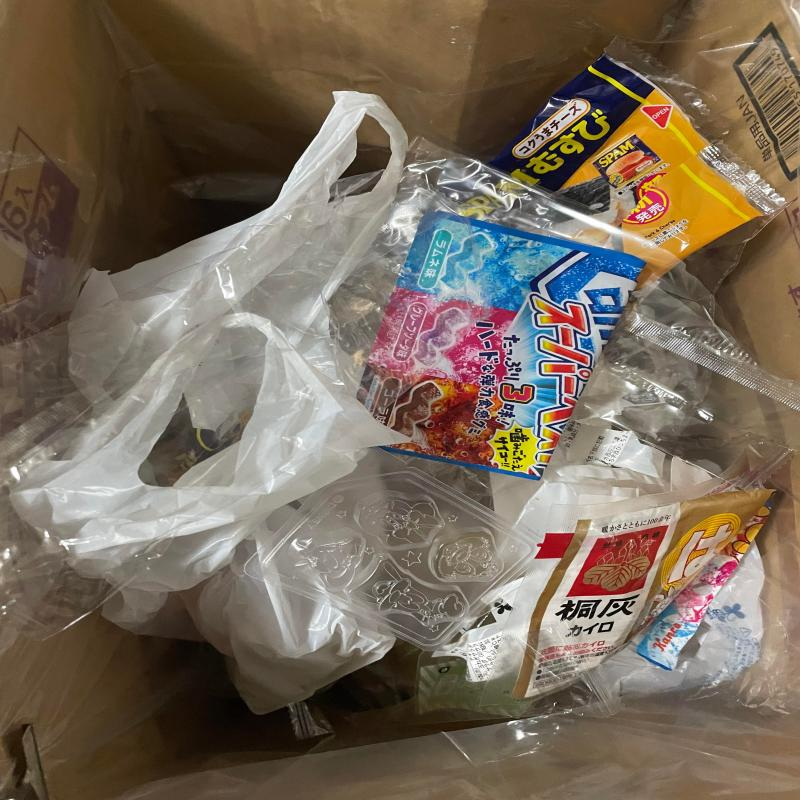food wrapper: (356, 211, 646, 481), (487, 36, 788, 260), (524, 489, 776, 699)
plastic bag: (10, 312, 411, 717), (67, 91, 409, 407)
